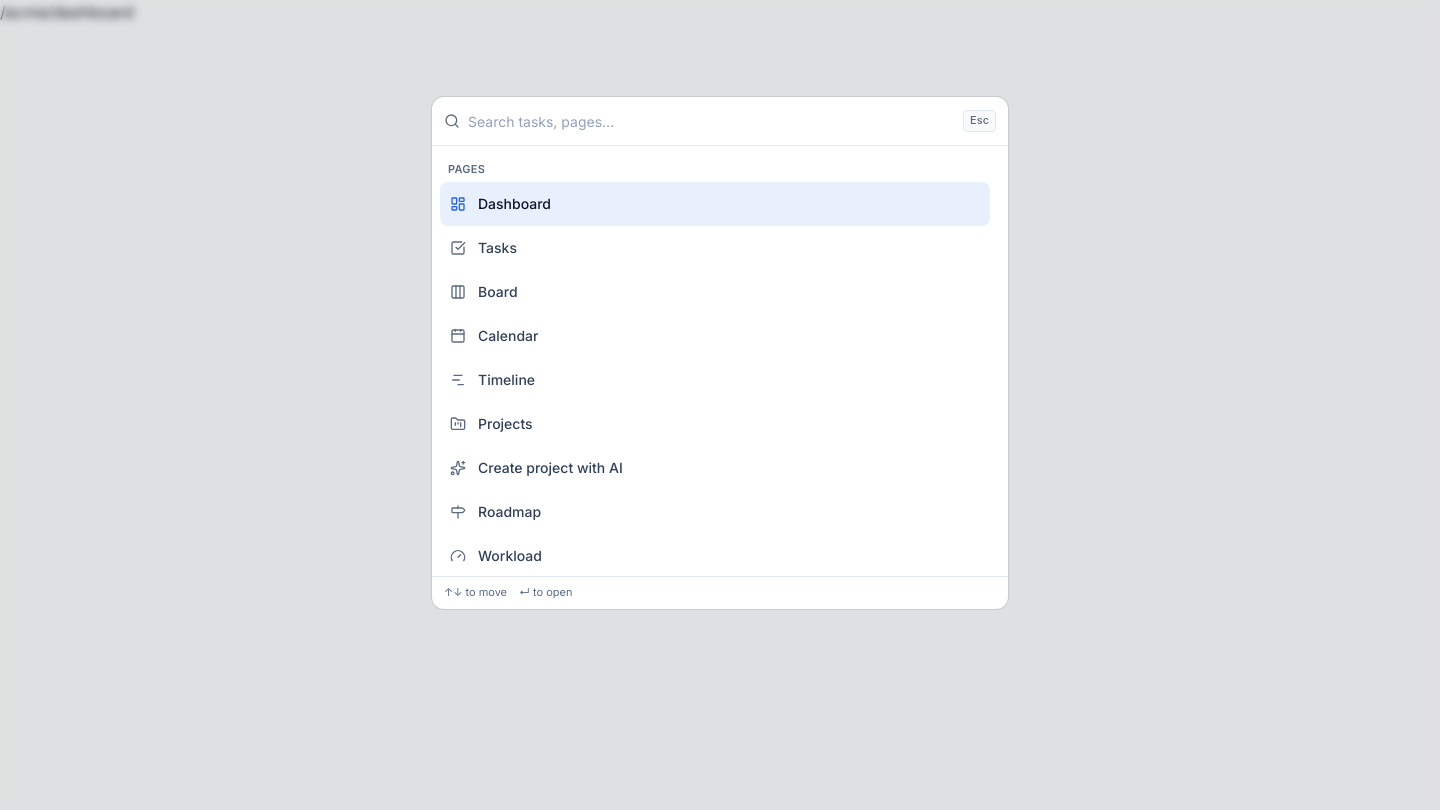
Test: CommandPalette › moves with the arrow keys and opens the highlighted result with Enter
Type "tasks" into the dropdown at (712, 121), box [468, 97, 955, 145]
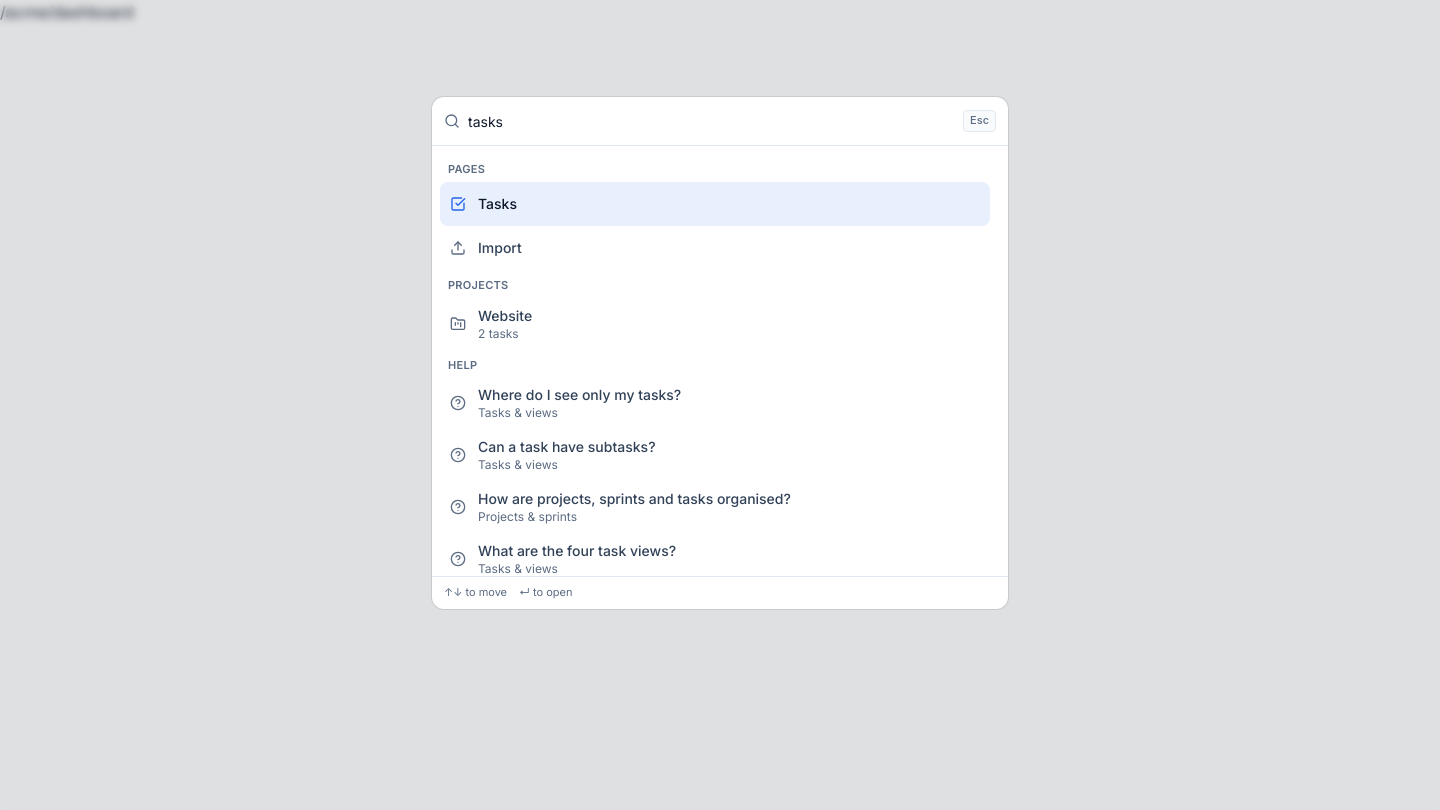
Now the option "Tasks" is selected, box [440, 182, 990, 226]
Press Arrowdown
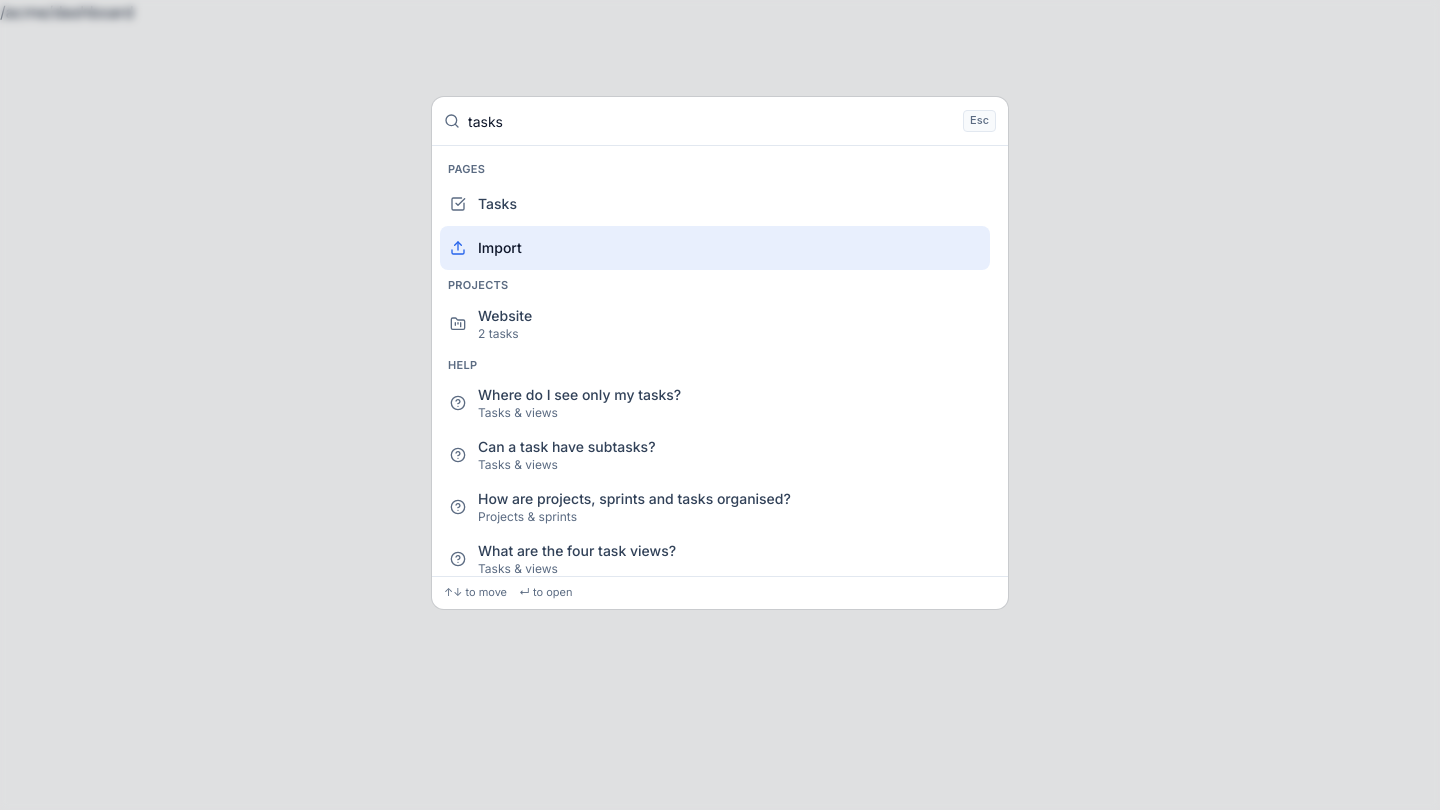
Now the option "Import" is selected, box [440, 226, 990, 270]
Press Arrowup Arrowup
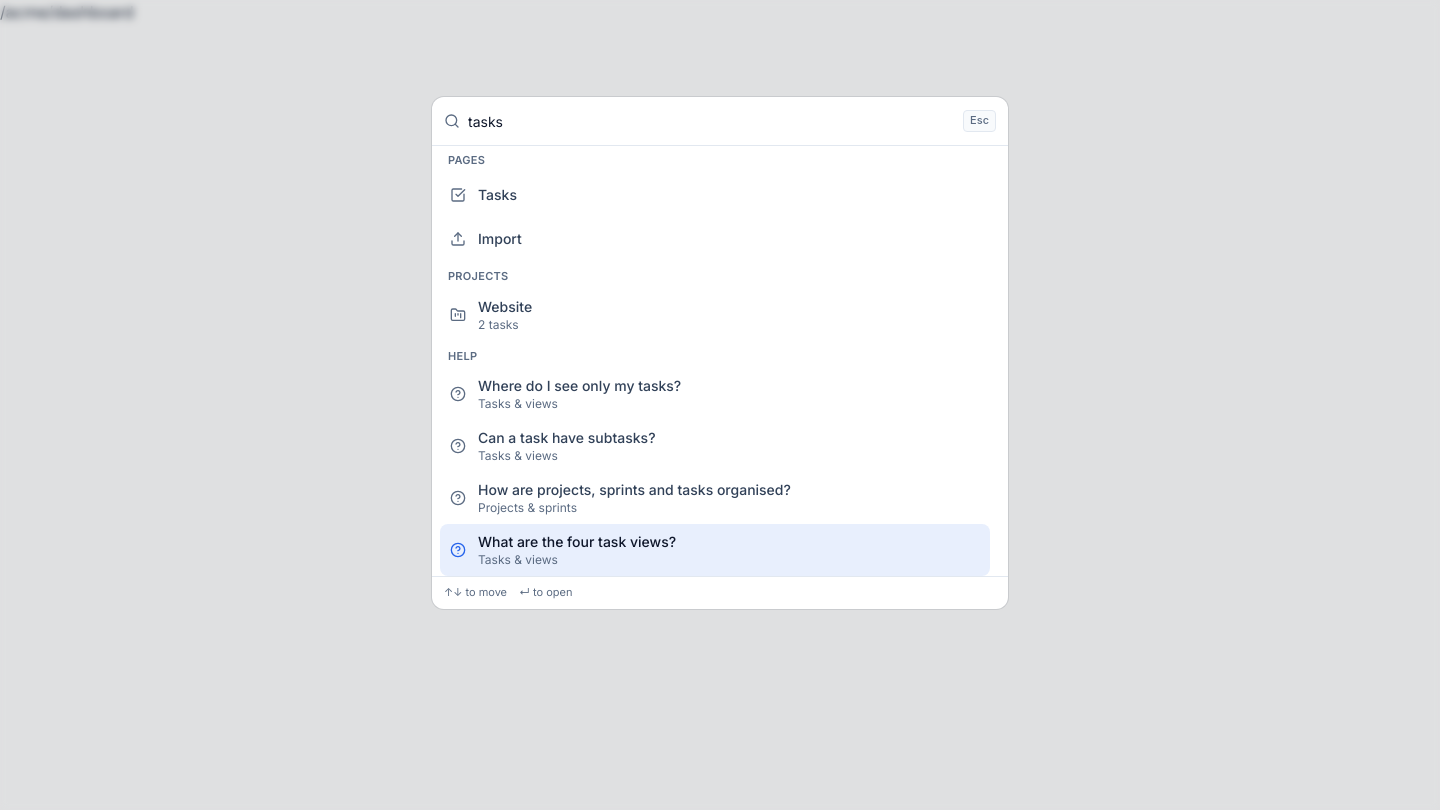
Now the option "What are the four task views? Tasks & views" is selected, box [440, 524, 990, 576]
Press Home Enter
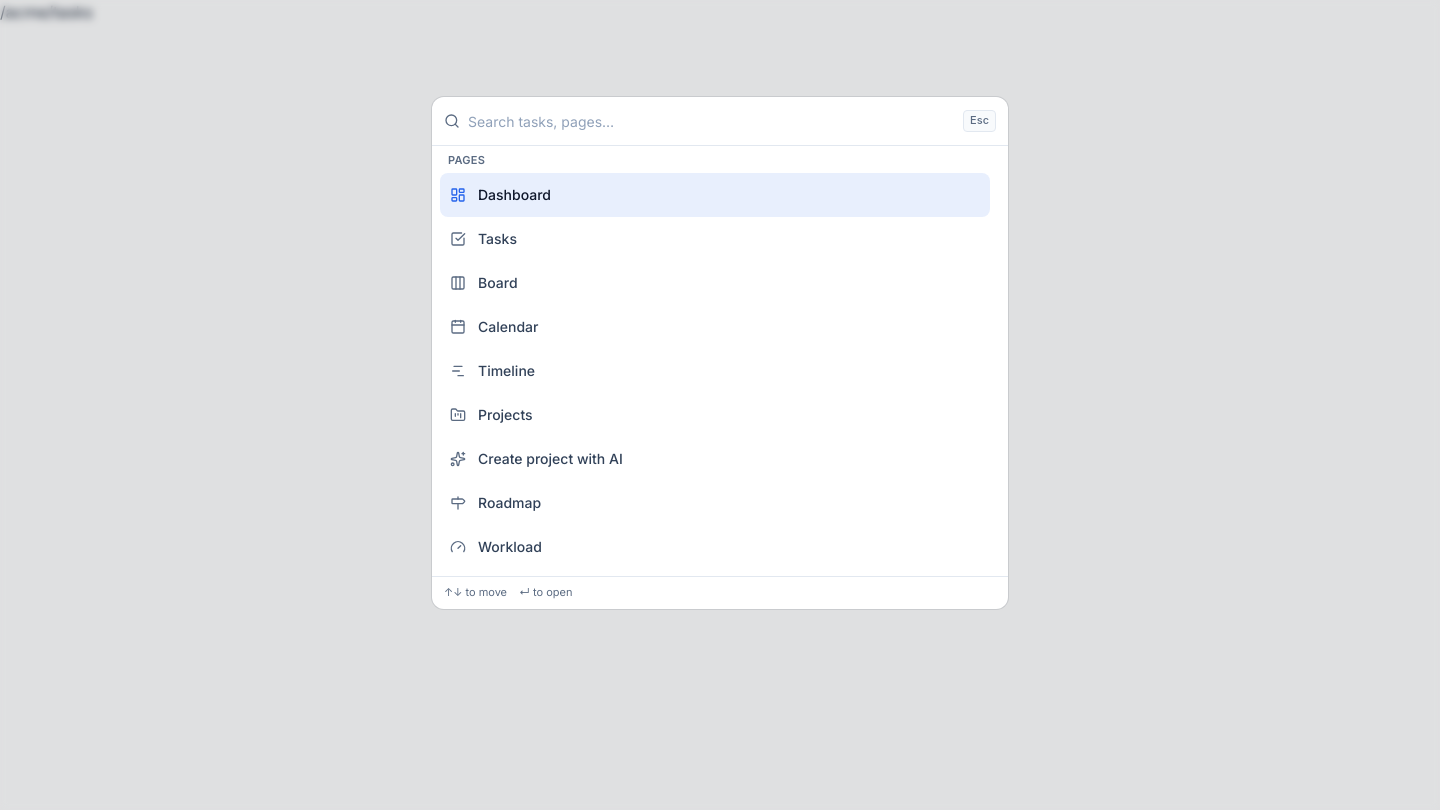
Now the text with test id "where" reads "/acme/tasks", box [0, 2, 93, 22]
